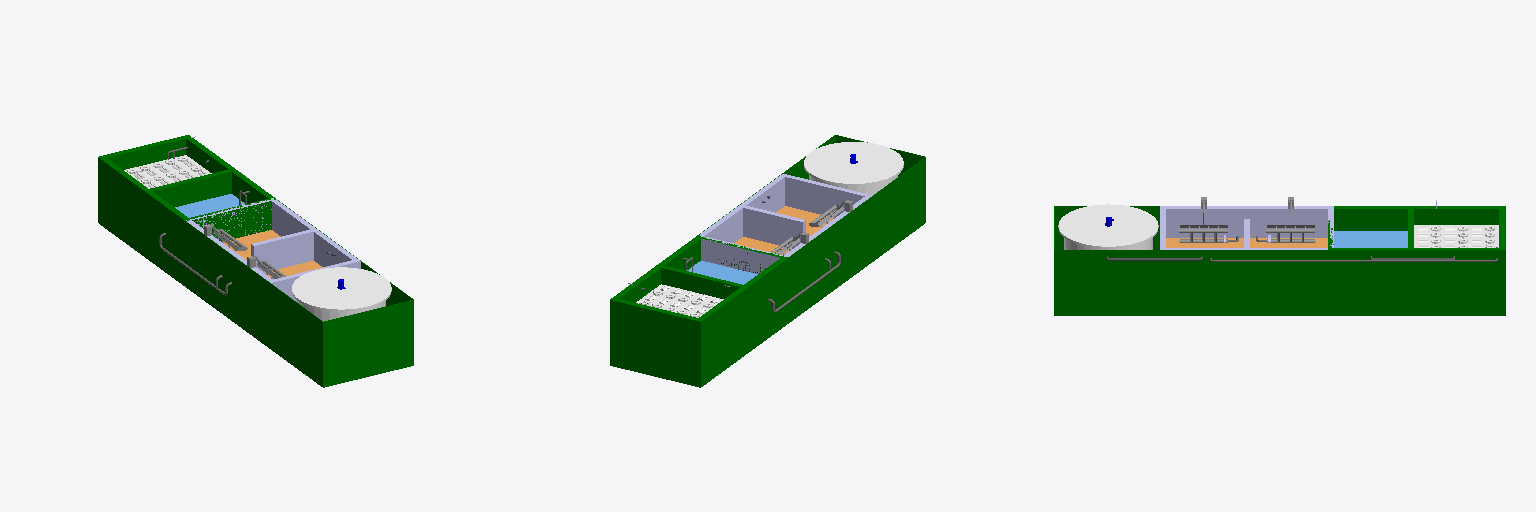
The picture shows the model from 3 angles: view 1: azimuth 30°, elevation 25°; view 2: azimuth 150°, elevation 25°; view 3: azimuth 270°, elevation 25°; orthographic projection.
Visible parts, largest first — view 1: NONE_DC_Brep; view 2: NONE_DC_Brep; view 3: NONE_DC_Brep.
Part boxes in pixels (bbox=[...]): NONE_DC_Brep: bbox=[98, 135, 413, 387]; NONE_DC_Brep: bbox=[610, 135, 925, 387]; NONE_DC_Brep: bbox=[1054, 197, 1505, 315].
Bounding box in the file's own units: 9854 × 6962 × 37297.